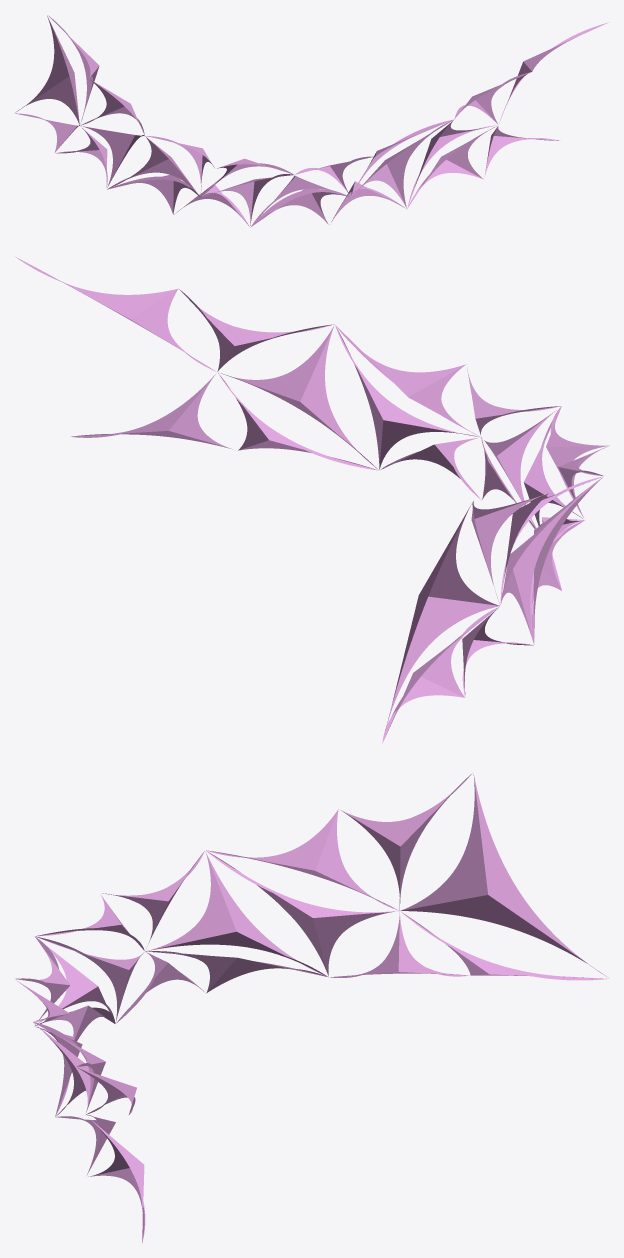
Rendered from TYPE52-5.glb.
3 views of the same model, one above another, from view 1: azimuth 30°, elevation 25°; view 2: azimuth 150°, elevation 25°; view 3: azimuth 270°, elevation 25° (orthographic). The views are drawn at different scales.
Visible parts, largest first — view 1: TYPE52-5 (×24); view 2: TYPE52-5 (×25); view 3: TYPE52-5 (×22).
Boxes of the visible parts, x1,y1,x2,y2 form: TYPE52-5 (×24): (14, 15, 560, 226); TYPE52-5 (×25): (15, 256, 609, 743); TYPE52-5 (×22): (36, 773, 608, 1240).
Size of the model in its own units: 32.65 by 9.8 by 26.59.
